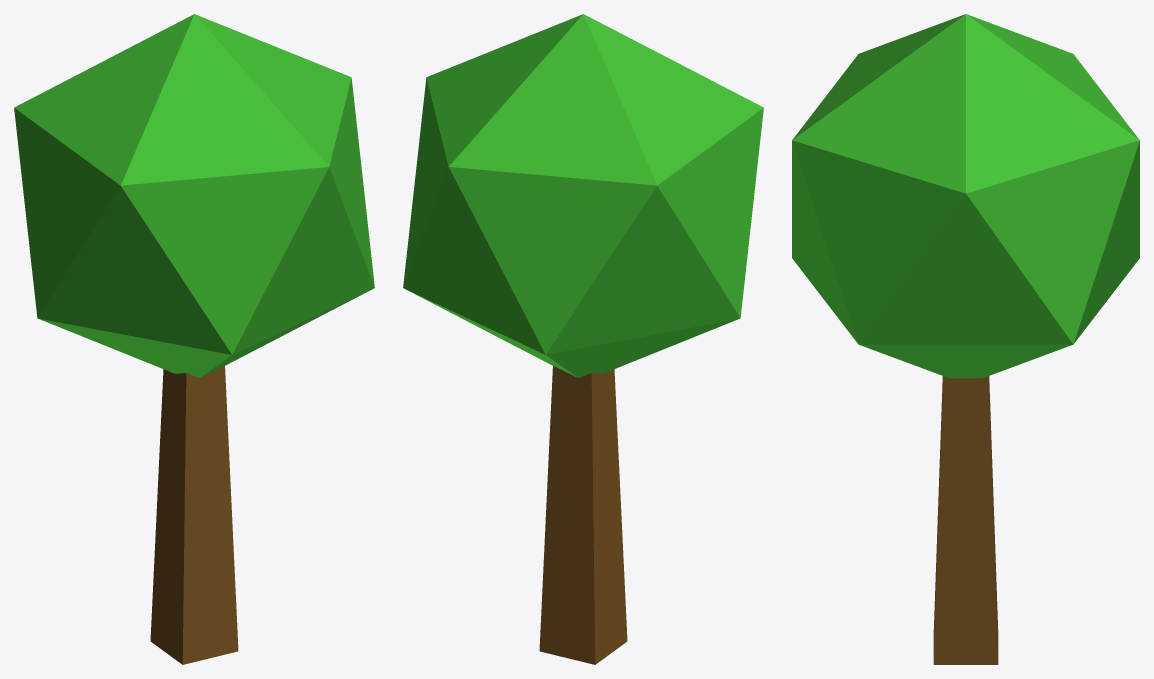
Rendered from firstTree.fbx.
3 views of the same model, side by side, from view 1: azimuth 30°, elevation 25°; view 2: azimuth 150°, elevation 25°; view 3: azimuth 270°, elevation 25° (orthographic).
Parts seen in each view (by area): view 1: Icosphere; view 2: Icosphere; view 3: Icosphere.
Boxes of the visible parts, box(x1,y1,x2,y2) form: Icosphere: box(14, 14, 374, 664); Icosphere: box(403, 14, 763, 664); Icosphere: box(792, 14, 1139, 664).
Size of the model in its own units: 179 by 344 by 170.
